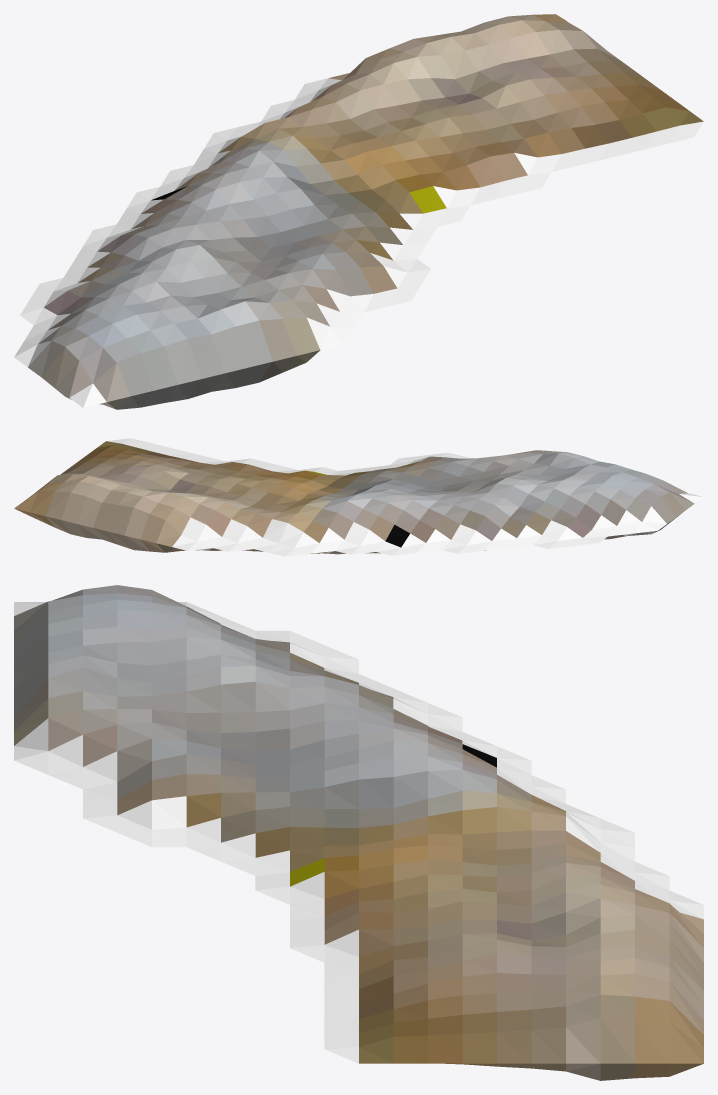
Rendered from MakeshiftStoneKnife.fbx.
3 views of the same model, one above another, from view 1: azimuth 30°, elevation 25°; view 2: azimuth 150°, elevation 25°; view 3: azimuth 270°, elevation 25° (orthographic). The views are drawn at different scales.
Visible parts, largest first — view 1: imagetostl_mesh2; view 2: imagetostl_mesh2; view 3: imagetostl_mesh2.
Boxes of the visible parts, x1,y1,x2,y2 form: imagetostl_mesh2: (14, 14, 703, 409); imagetostl_mesh2: (14, 438, 703, 556); imagetostl_mesh2: (14, 585, 703, 1080).
Size of the model in its own units: 1.03 by 0.1075 by 0.6516.
